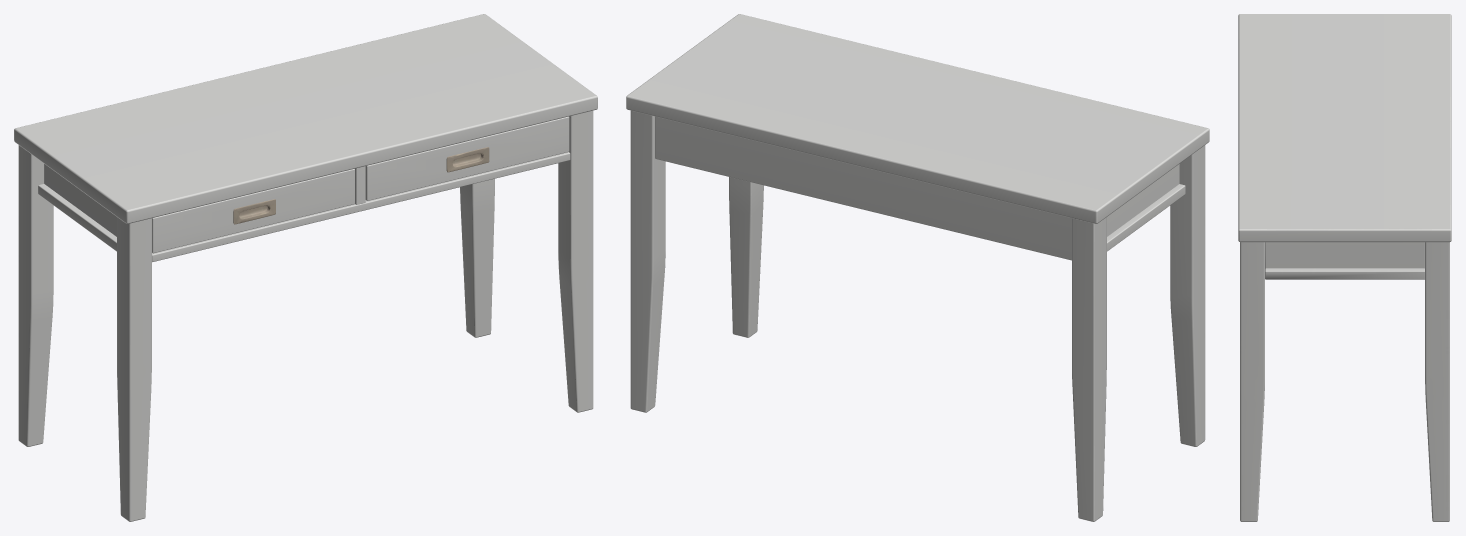
Rendered from B082JLXB9Z.glb.
3 views of the same model, side by side, from view 1: azimuth 30°, elevation 25°; view 2: azimuth 150°, elevation 25°; view 3: azimuth 270°, elevation 25° (orthographic). The views are drawn at different scales.
Parts seen in each view (by area): view 1: RootNode; view 2: RootNode; view 3: RootNode.
Part boxes in pixels (x1,y1,x2,y2): RootNode: (14, 14, 597, 521); RootNode: (626, 14, 1209, 521); RootNode: (1238, 14, 1451, 521).
Bounding box in the file's own units: 1.22 × 0.7746 × 0.5083.
1 material, 1 textured.
